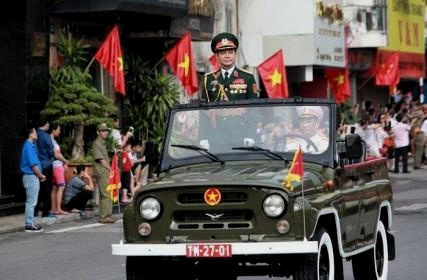plate: (184, 241, 234, 262)
